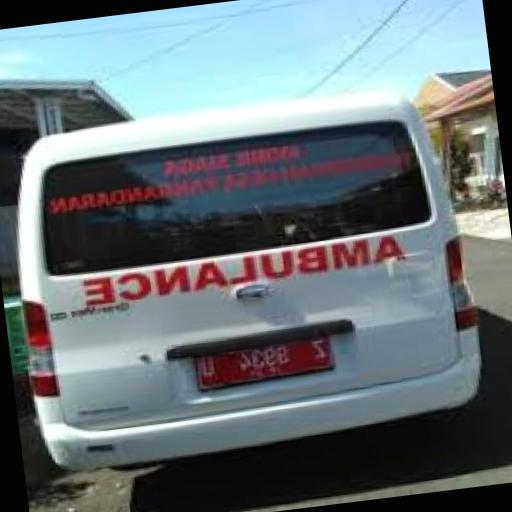Police car: (2, 82, 487, 478)
